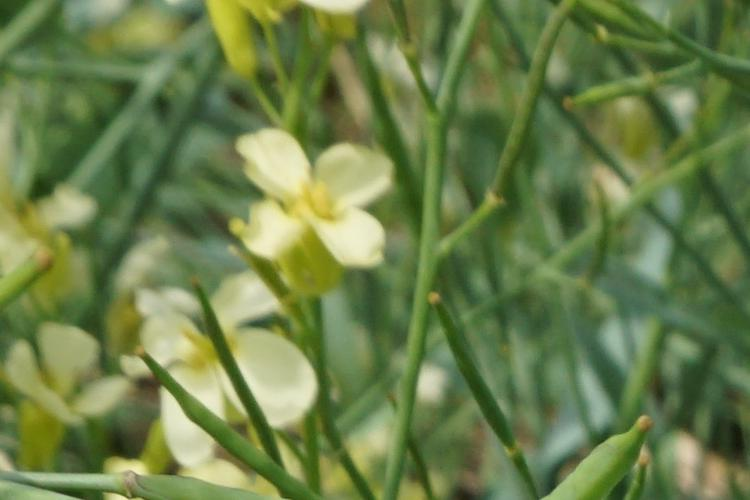pod: (423, 289, 530, 455), (134, 339, 231, 459), (182, 260, 259, 406), (565, 395, 651, 493)
white: (127, 285, 323, 451), (224, 146, 407, 280), (17, 327, 133, 431)
